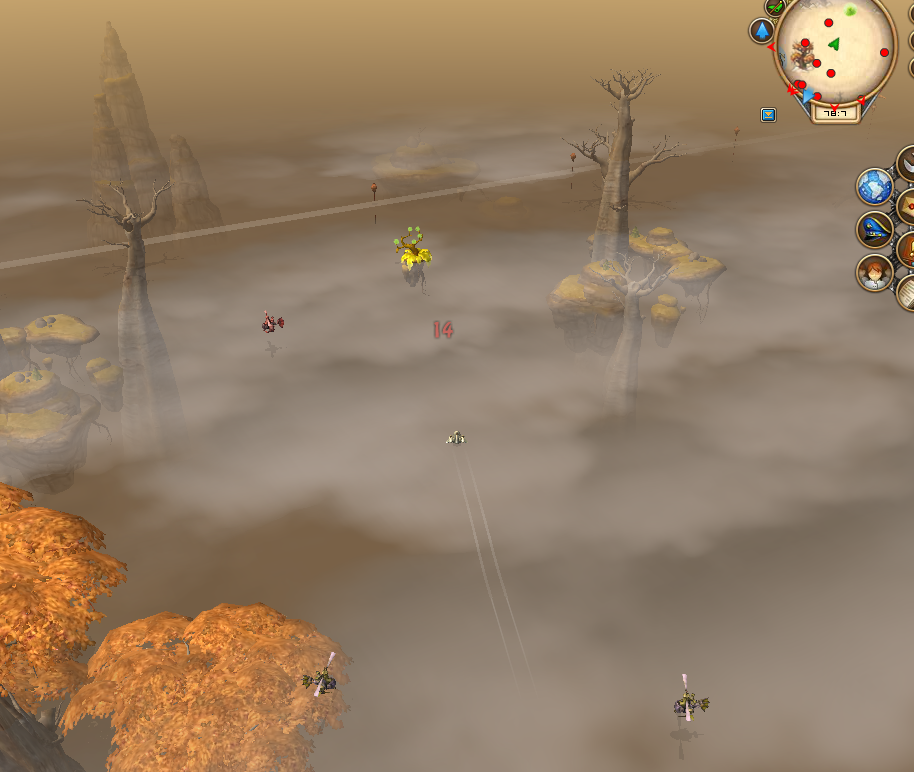dandelion-full: (387, 217, 434, 286)
